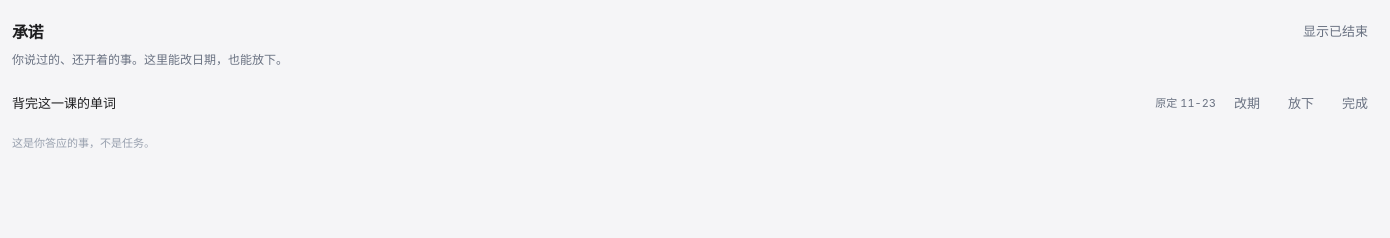
Test: resolved rows stay hidden until 显示已结束 is on, then read as history
The image size is (1390, 238).
Expected: the text "给妈妈打电话" is not shown
Expected: the text "报个班" is not shown
Click the switch labelled "显示已结束" at point(1336, 32), box [1293, 18, 1378, 46]
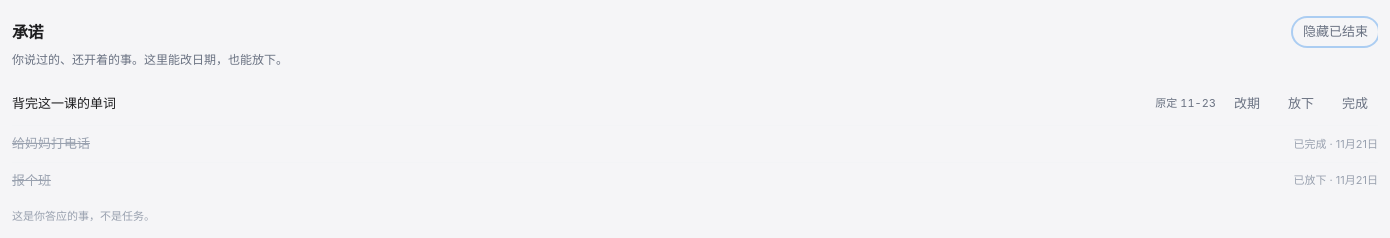
Now the text "给妈妈打电话" is shown, box [12, 135, 90, 151]
Now the text "已完成 · 11月21日" is shown, box [1294, 136, 1378, 152]
Now the text "报个班" is shown, box [12, 172, 51, 188]
Click the switch named "显示已结束" at point(1336, 32), box [1293, 18, 1378, 46]
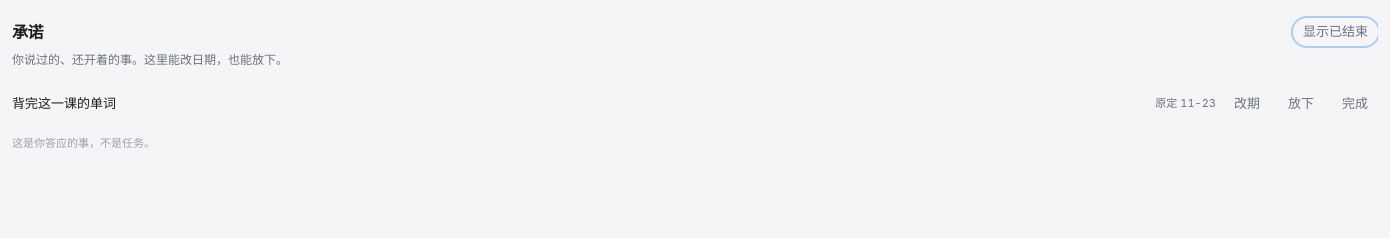
Now the text "给妈妈打电话" is gone
